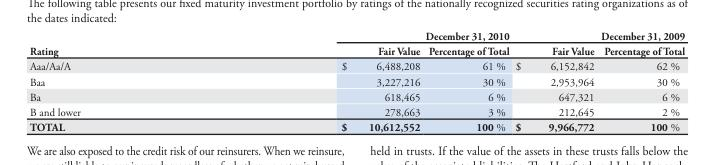table: (28, 28, 684, 134)
table column: (210, 28, 423, 134), (28, 28, 210, 134), (423, 28, 511, 134), (511, 28, 598, 134), (598, 28, 684, 134)
table column header: (28, 28, 684, 58)
table row: (28, 73, 684, 89), (28, 28, 684, 43), (28, 43, 684, 58), (28, 58, 684, 73), (28, 89, 684, 104), (28, 104, 684, 119), (28, 119, 684, 134)
table spanning cell: (28, 28, 210, 58), (210, 28, 511, 43), (511, 28, 684, 43)
